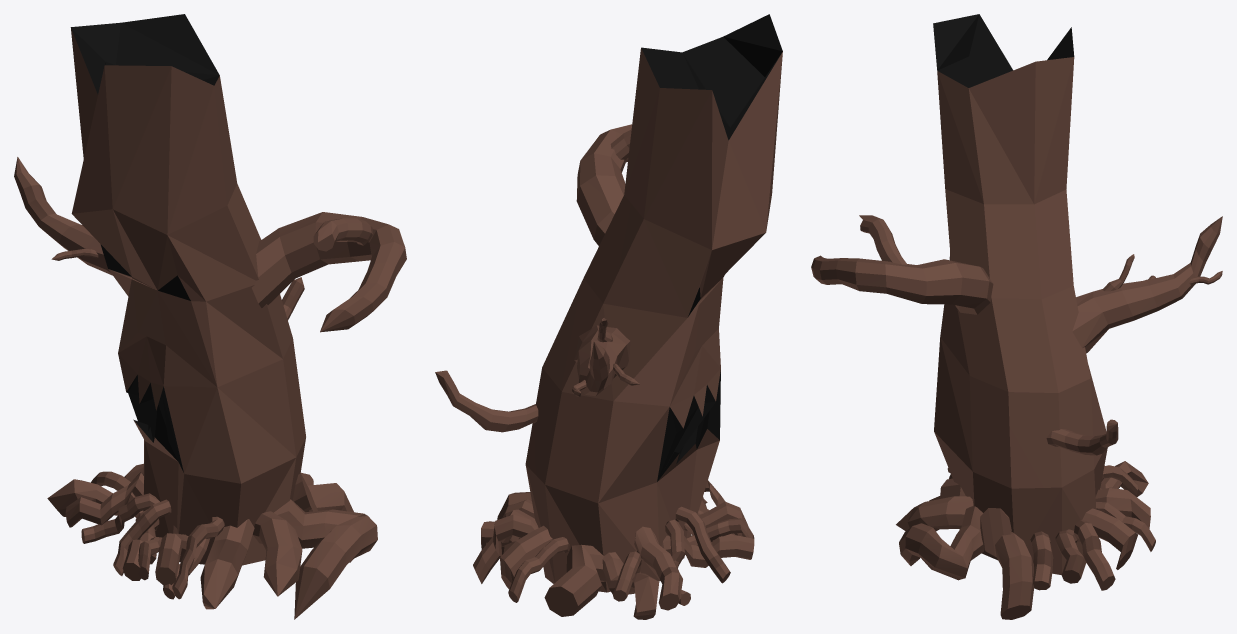
The model's file is scary-tree.glb.
3 views of the same model, side by side, from view 1: azimuth 30°, elevation 25°; view 2: azimuth 150°, elevation 25°; view 3: azimuth 270°, elevation 25° (orthographic). The views are drawn at different scales.
Visible parts, largest first — view 1: node_MeshObject972605440-PolyPaper20; view 2: node_MeshObject972605440-PolyPaper20; view 3: node_MeshObject972605440-PolyPaper20.
Boxes of the visible parts, <box> form: node_MeshObject972605440-PolyPaper20: <box>14,14,406,619</box>; node_MeshObject972605440-PolyPaper20: <box>435,14,782,619</box>; node_MeshObject972605440-PolyPaper20: <box>811,14,1222,619</box>.
Size of the model in its own units: 0.8638 by 1.69 by 1.25.
